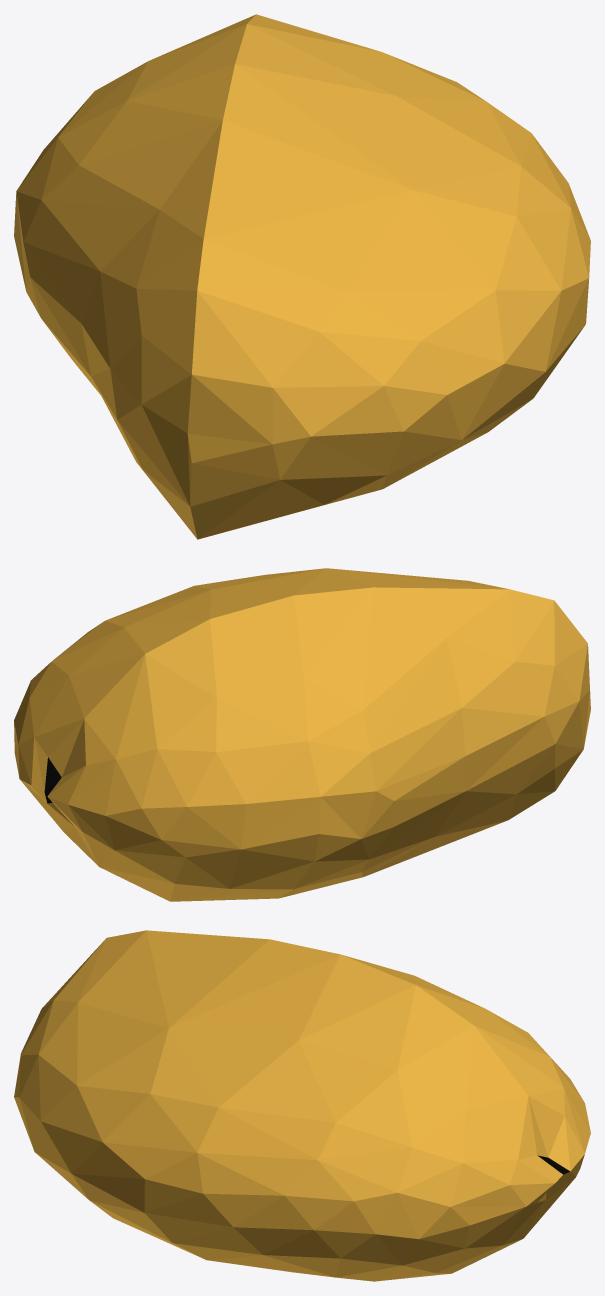
The picture shows the model from 3 angles, top to bottom: view 1: azimuth 30°, elevation 25°; view 2: azimuth 150°, elevation 25°; view 3: azimuth 270°, elevation 25°; orthographic projection. The views are drawn at different scales.
Parts seen in each view (by area): view 1: 零件2; view 2: 零件2; view 3: 零件2.
Part boxes in pixels (x1,y1,x2,y2): 零件2: (14,14,590,539); 零件2: (14,568,590,901); 零件2: (14,930,590,1281).
Bounding box in the file's own units: 3898 × 2664 × 4591.
